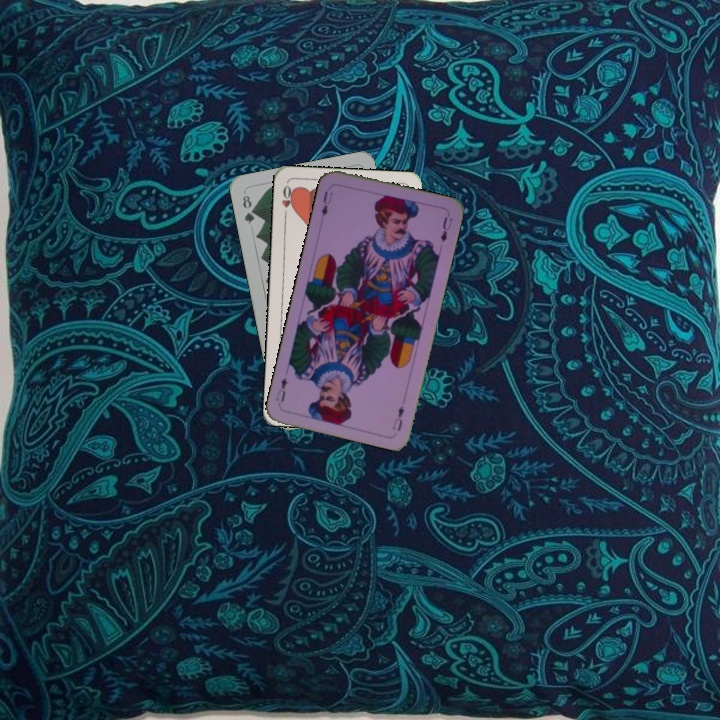EU: (389, 402, 407, 434), (317, 187, 333, 219)
G8: (238, 191, 257, 226)
HO: (278, 181, 296, 221)
